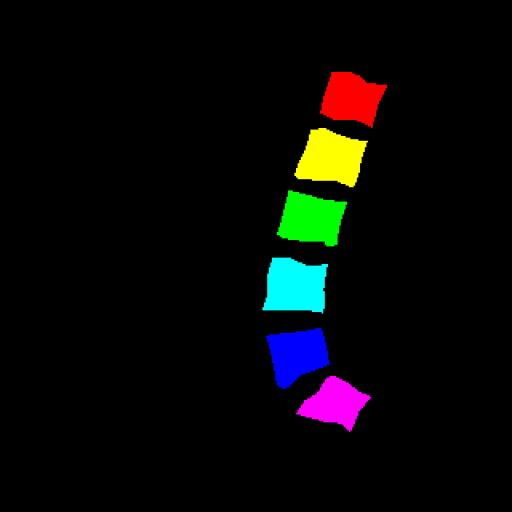L1: (320, 72, 387, 126)
L2: (296, 128, 367, 186)
L3: (277, 190, 347, 246)
L4: (263, 258, 328, 312)
L5: (267, 328, 329, 388)
S1: (297, 376, 371, 430)
